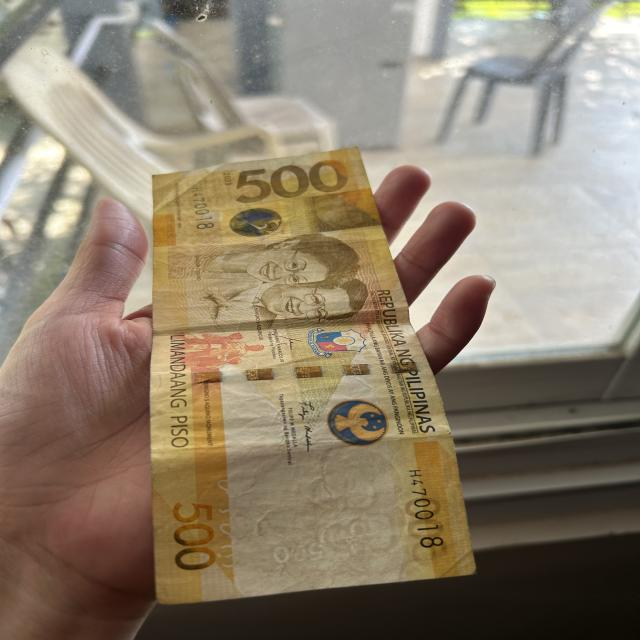concealed_value: (305, 191, 377, 230)
optically_variable_device: (219, 202, 298, 242)
see_through_mark: (206, 468, 256, 581)
value_watermark: (258, 540, 332, 568)
watermark: (230, 442, 408, 575)
